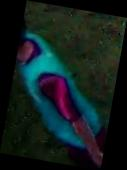blue: (1, 0, 127, 170)
